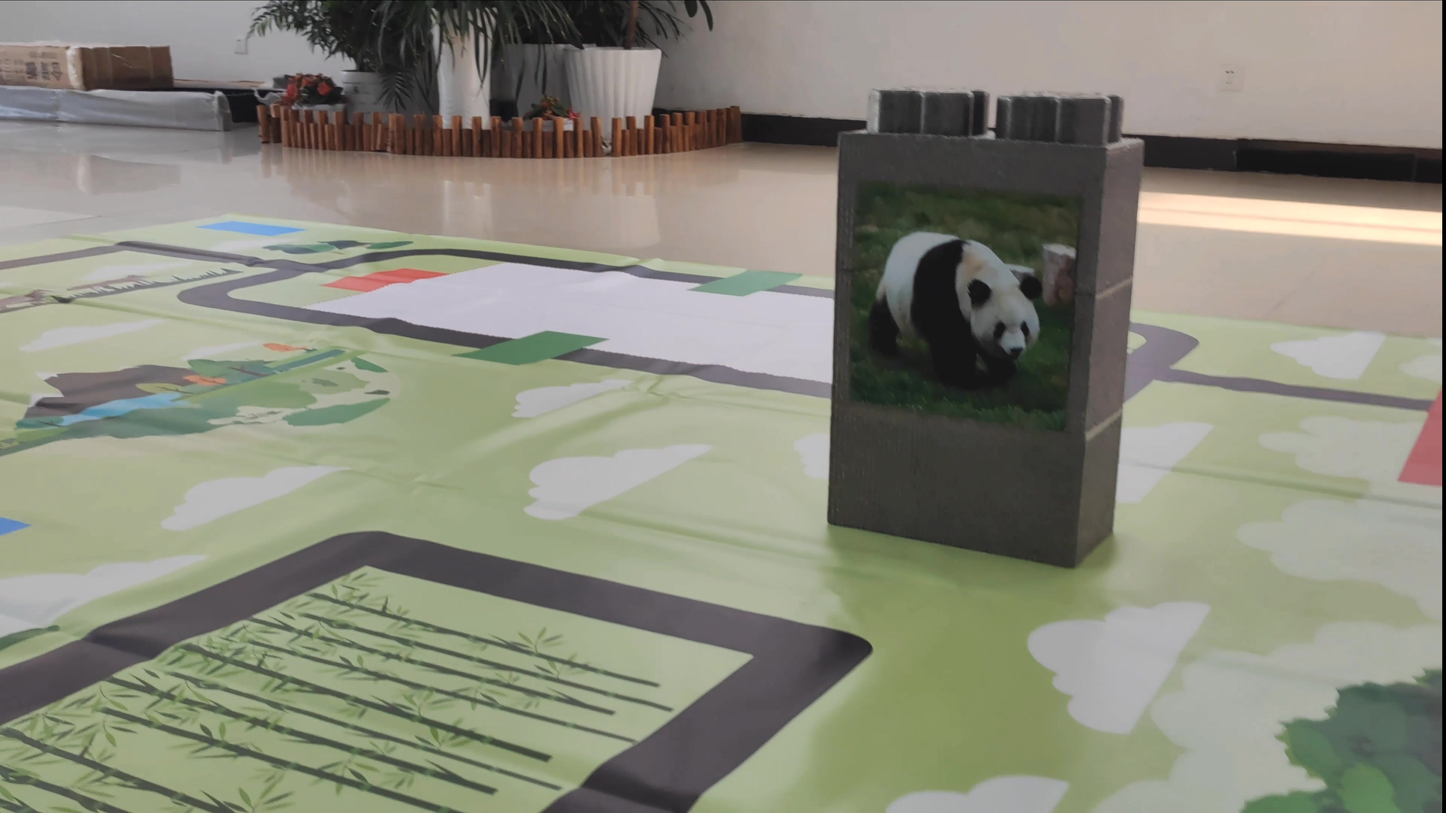panda: (842, 216, 1066, 407)
